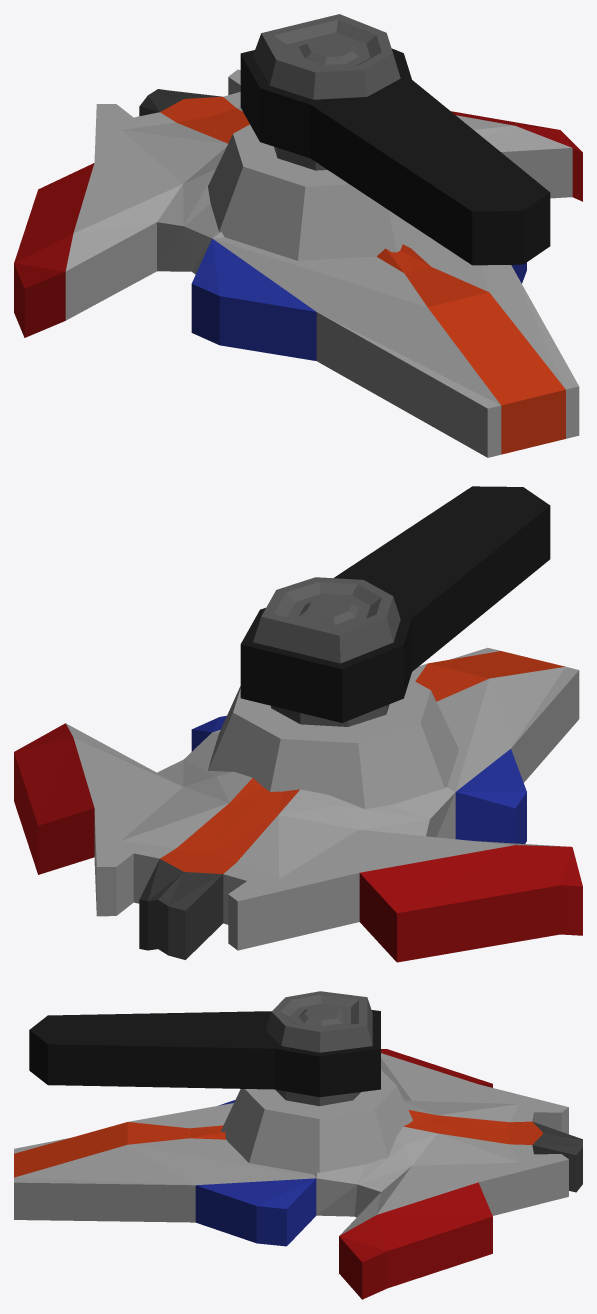
File: asteroidShip.FBX
The picture shows the model from 3 angles, top to bottom: view 1: azimuth 30°, elevation 25°; view 2: azimuth 150°, elevation 25°; view 3: azimuth 270°, elevation 25°; orthographic projection. The views are drawn at different scales.
Visible parts, largest first — view 1: Plane002, Cylinder001; view 2: Plane002, Cylinder001; view 3: Plane002, Cylinder001.
Boxes of the visible parts, left/top/right/bottom form: Plane002: left=14, top=69, right=582, bottom=457; Cylinder001: left=208, top=14, right=550, bottom=265; Plane002: left=14, top=647, right=582, bottom=962; Cylinder001: left=208, top=486, right=550, bottom=809; Plane002: left=14, top=1049, right=582, bottom=1299; Cylinder001: left=29, top=991, right=412, bottom=1174.
Bounding box in the file's own units: 139 × 60.18 × 162.
